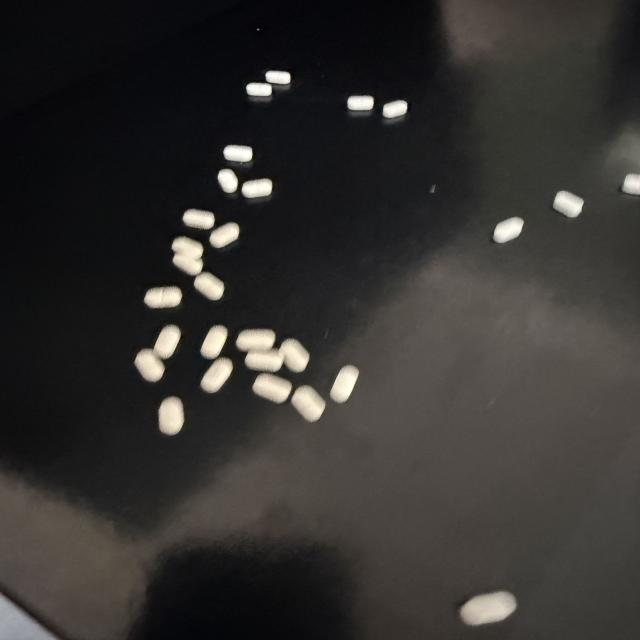pill: (460, 591, 517, 626), (291, 386, 325, 422), (253, 374, 292, 403), (201, 357, 232, 393), (330, 365, 358, 403), (135, 349, 164, 382), (280, 339, 309, 372), (159, 397, 184, 435), (154, 325, 180, 359), (201, 326, 227, 359), (236, 329, 275, 351), (245, 349, 282, 372), (194, 272, 224, 300), (144, 286, 182, 308), (553, 191, 583, 217), (493, 217, 523, 243), (210, 223, 239, 248), (172, 237, 203, 259), (173, 254, 203, 275), (183, 209, 214, 229), (242, 179, 272, 198), (218, 169, 238, 193), (224, 145, 252, 162), (383, 100, 407, 118), (246, 82, 272, 97), (348, 96, 374, 110), (622, 174, 639, 195), (266, 71, 291, 84)
